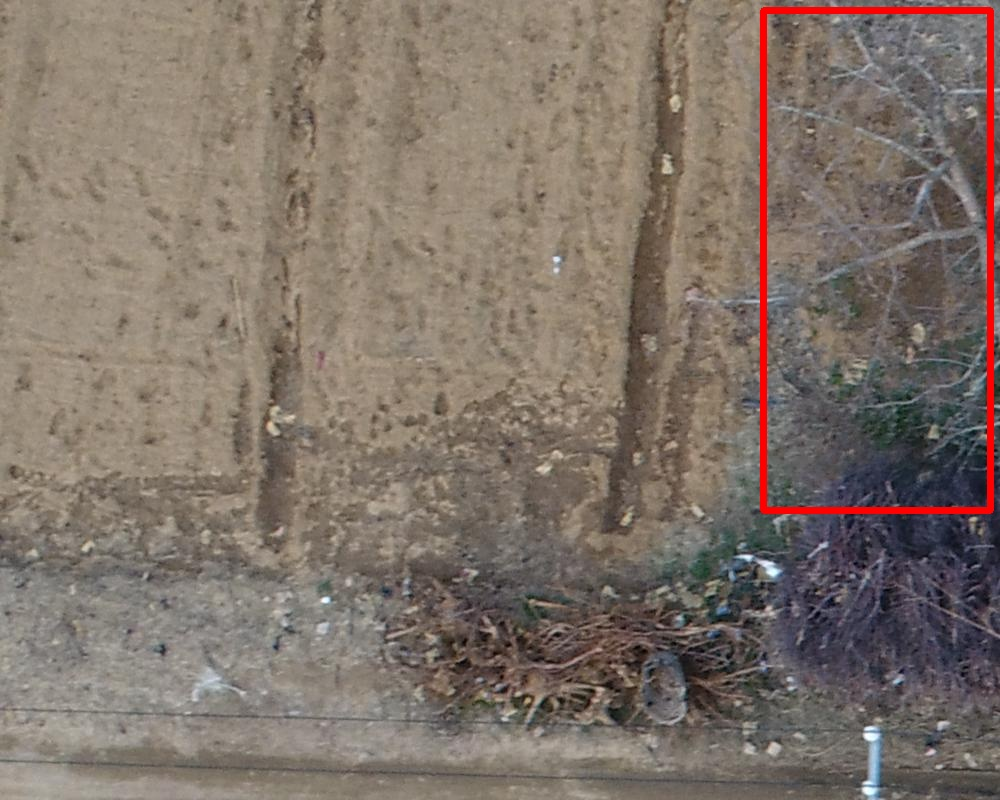apple: (763, 10, 990, 510)
